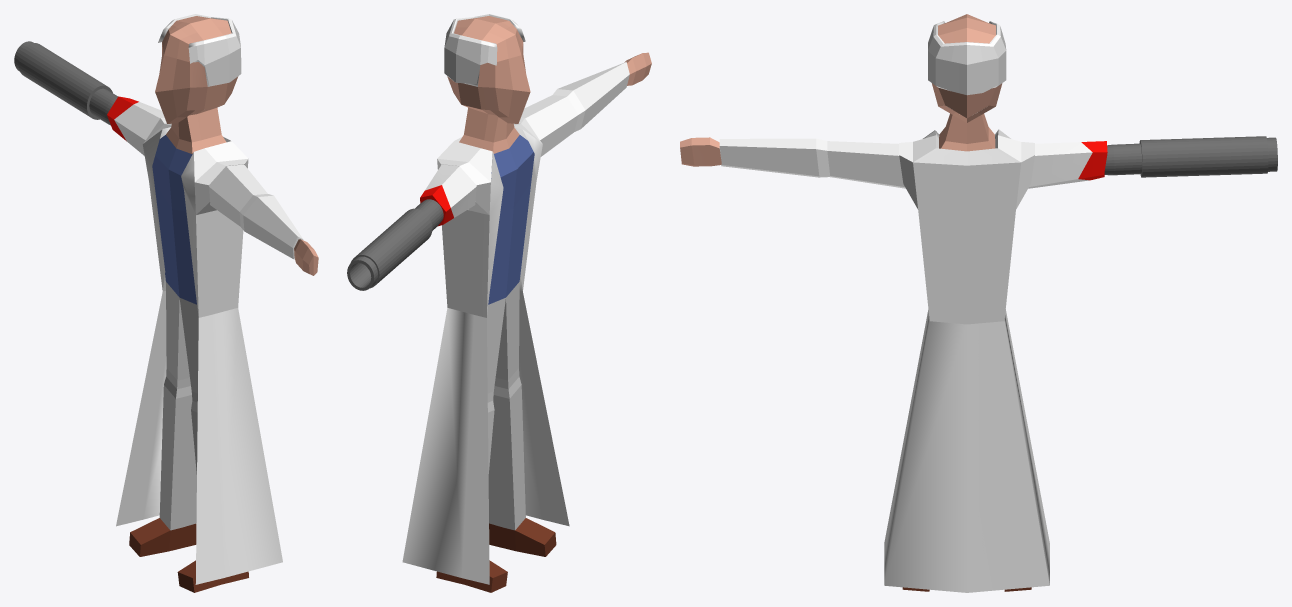
The model's file is scientist5.fbx.
3 renders of one model, left to right at view 1: azimuth 30°, elevation 25°; view 2: azimuth 150°, elevation 25°; view 3: azimuth 270°, elevation 25°, orthographic. The views are drawn at different scales.
Parts seen in each view (by area): view 1: Cube; view 2: Cube; view 3: Cube.
Part boxes in pixels (x1,y1,x2,y2): Cube: (14,14,318,592); Cube: (347,14,651,592); Cube: (680,14,1277,592).
Bounding box in the file's own units: 291 × 1706 × 1650.
